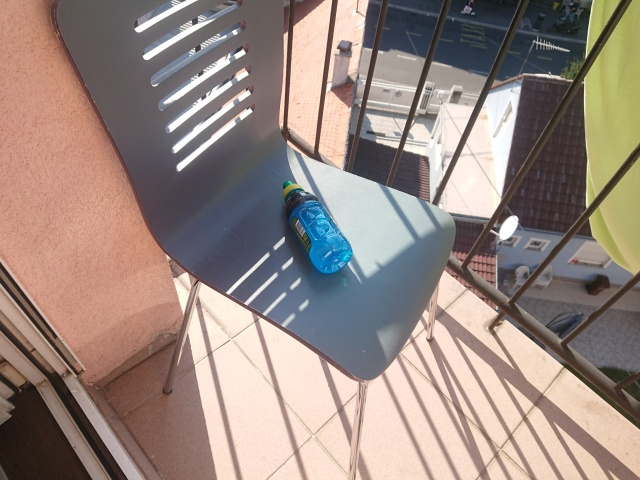Vindi Iso Sport Forest Strawberries 500mL: (280, 178, 354, 275)
